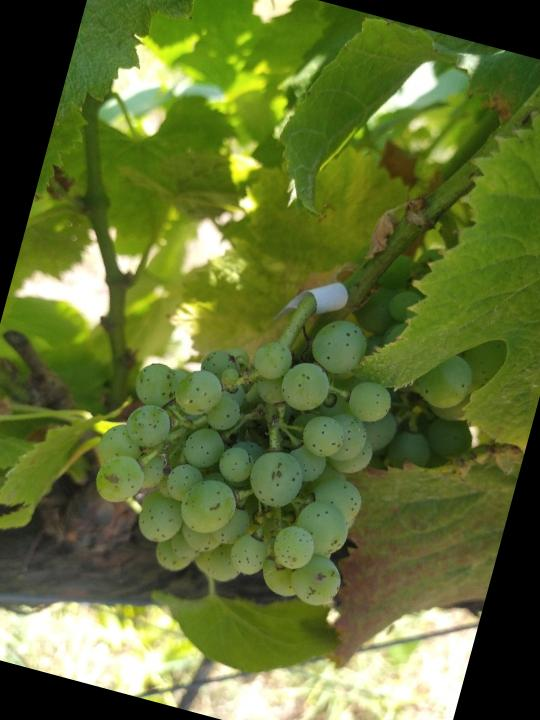grape: (70, 264, 478, 635)
